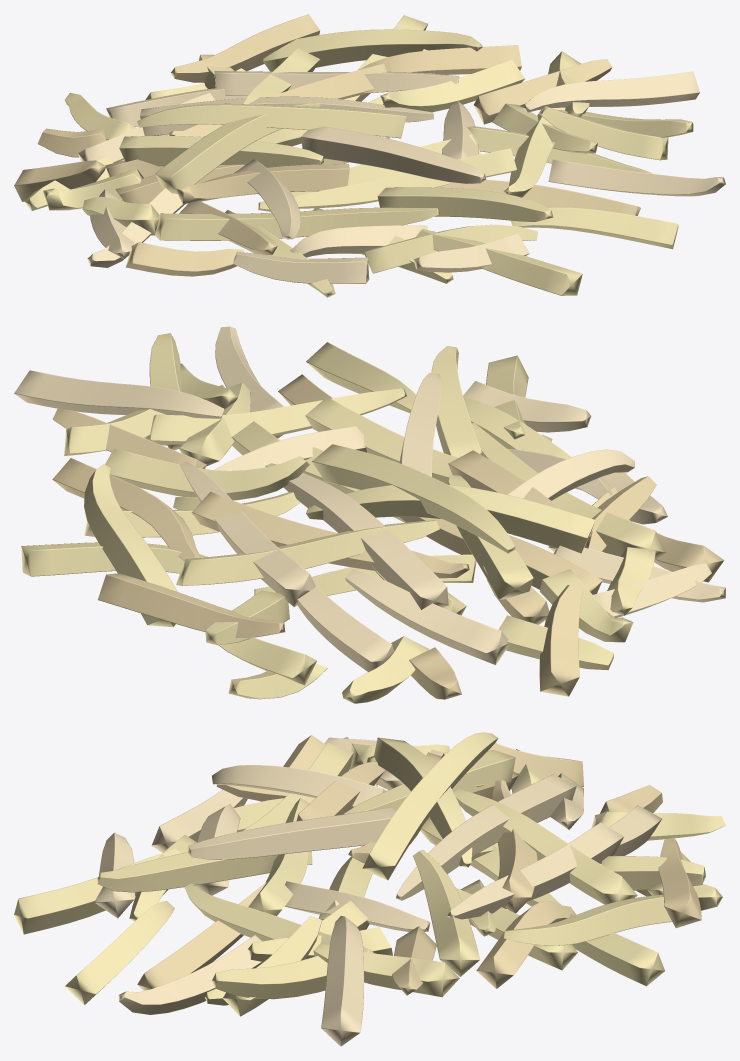
File: cheese_2024-09-16_01.18.28.gltf
The picture shows the model from 3 angles, top to bottom: view 1: azimuth 30°, elevation 25°; view 2: azimuth 150°, elevation 25°; view 3: azimuth 270°, elevation 25°; orthographic projection. The views are drawn at different scales.
Visible parts, largest first — view 1: LODGroup (×53); view 2: LODGroup (×54); view 3: LODGroup (×51).
Boxes of the visible parts, box(x1,y1,x2,y2) form: LODGroup (×53): box(14, 14, 725, 297); LODGroup (×54): box(14, 326, 725, 703); LODGroup (×51): box(14, 732, 725, 1046).
Bounding box in the file's own units: 0.2459 × 0.0439 × 0.2282.
